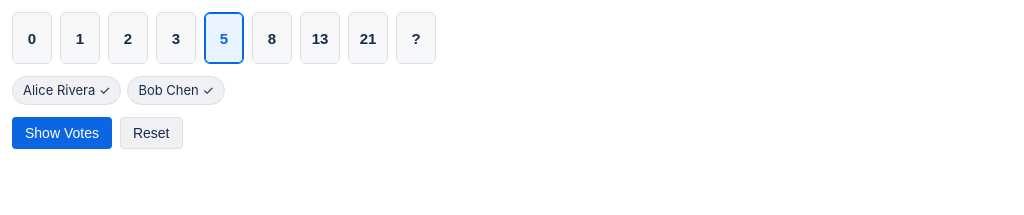
Scenario: ScrumPokerApp initialization, theme sync, bootstrap, and voting controls (R13, R14) › renders "<Display Name> ✓" chips at >= 1 voters without leaking cards, avatars, or console logs, and enables Show Votes and Reset
This screenshot has width=1024, height=215.
Expected: the elements with test id "participant-chip" read "Alice Rivera ✓", "Bob Chen ✓", in this order, [12,76,121,105]; [127,76,225,105]
Expected: the button with test id "reset-round-button" is enabled, [120,117,182,149]
What coordinates should you click on to do the following:
click the button with test id "show-votes-button"
I would click on:
 (62, 133)
Its box is [12,117,112,149].
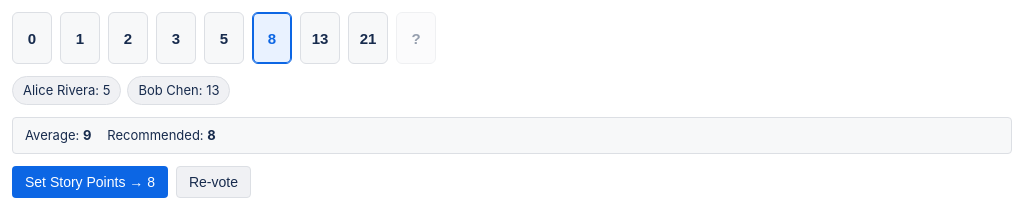
Expected: the element with test id "recommended-score" reads "Recommended: 8", [107,126,216,145]
